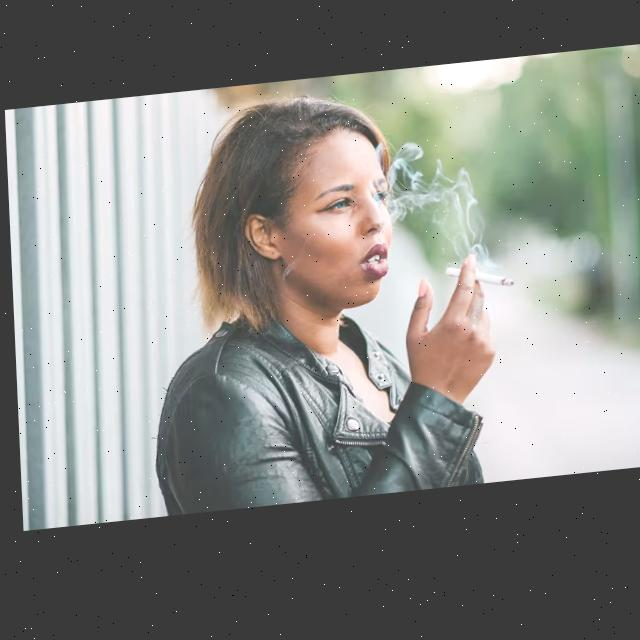cigarette: (442, 271, 511, 301)
